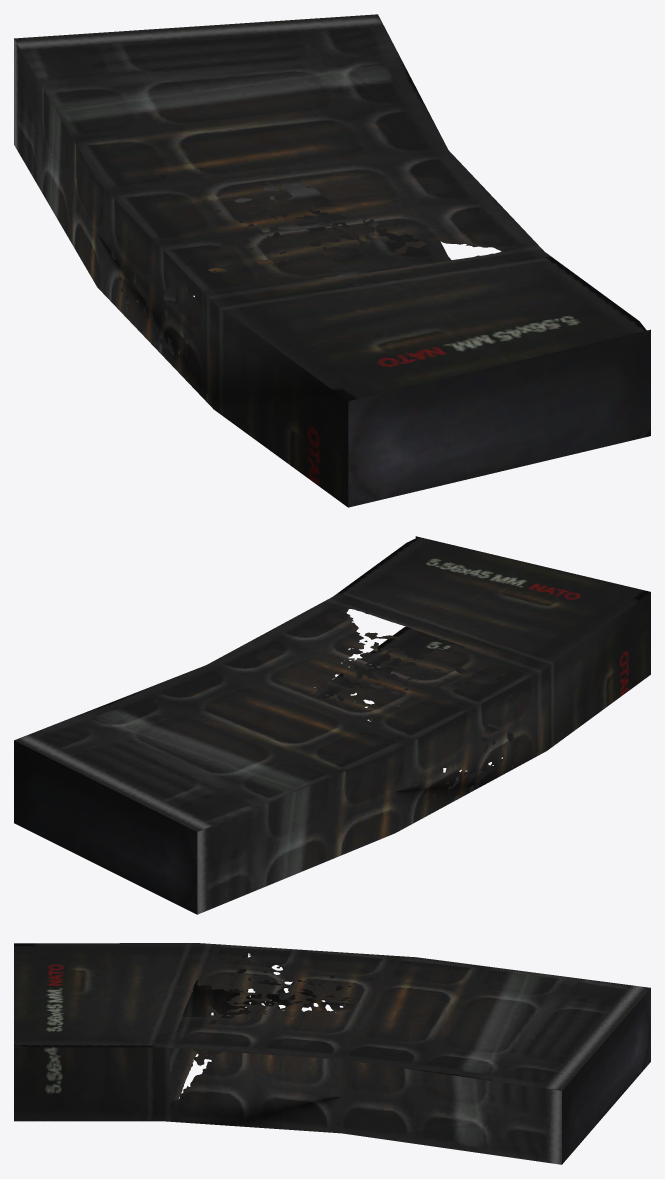
Rendered from t6_attach_mag_xm8_world_LOD1.obj.
3 views of the same model, one above another, from view 1: azimuth 30°, elevation 25°; view 2: azimuth 150°, elevation 25°; view 3: azimuth 270°, elevation 25° (orthographic). The views are drawn at different scales.
Visible parts, largest first — view 1: mtl_t6_wpn_ar_xm8, mtl_t6_wpn_ar_xm8_camo3; view 2: mtl_t6_wpn_ar_xm8, mtl_t6_wpn_ar_xm8_camo3; view 3: mtl_t6_wpn_ar_xm8, mtl_t6_wpn_ar_xm8_camo3.
Boxes of the visible parts, left/top/right/bottom form: mtl_t6_wpn_ar_xm8: left=14, top=14, right=650, bottom=507; mtl_t6_wpn_ar_xm8_camo3: left=14, top=39, right=348, bottom=507; mtl_t6_wpn_ar_xm8: left=14, top=536, right=650, bottom=914; mtl_t6_wpn_ar_xm8_camo3: left=197, top=592, right=650, bottom=914; mtl_t6_wpn_ar_xm8: left=14, top=943, right=650, bottom=1164; mtl_t6_wpn_ar_xm8_camo3: left=14, top=953, right=561, bottom=1164.
Size of the model in its own units: 10.18 by 2.57 by 19.05.
